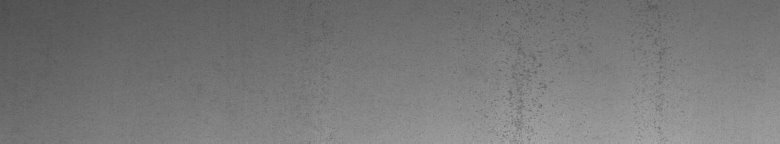ib: (497, 47, 554, 134)
